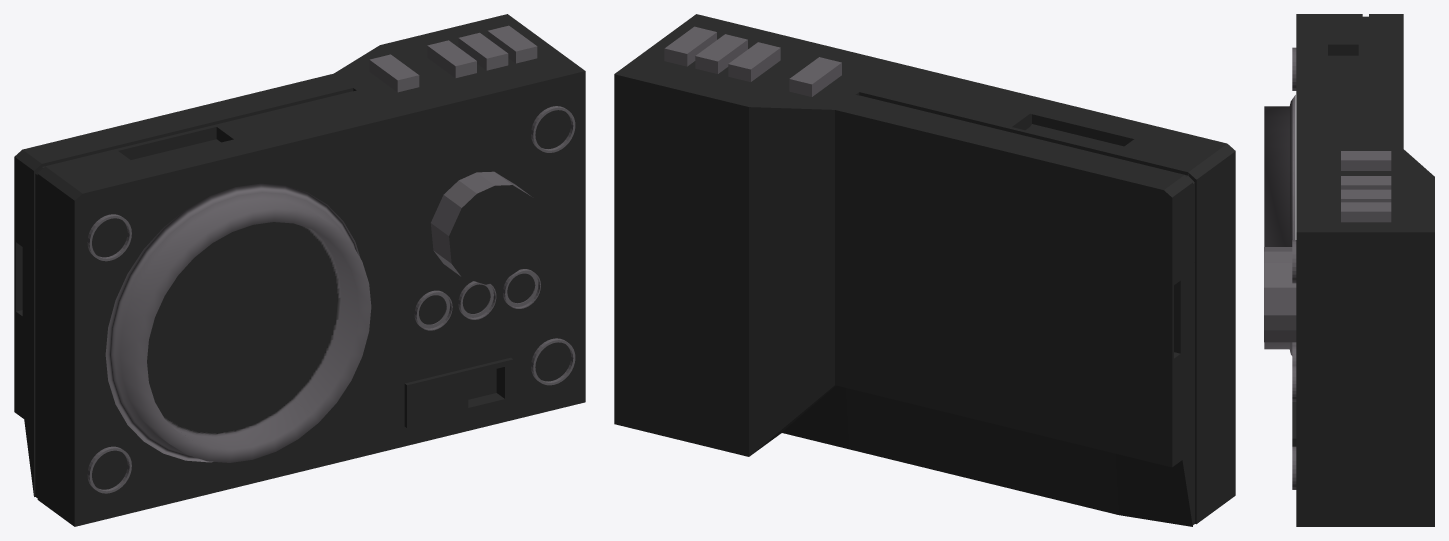
File: radio.fbx
3 renders of one model, left to right at view 1: azimuth 30°, elevation 25°; view 2: azimuth 150°, elevation 25°; view 3: azimuth 270°, elevation 25°, orthographic. The views are drawn at different scales.
Parts seen in each view (by area): view 1: Cube; view 2: Cube; view 3: Cube.
Boxes of the visible parts, x1,y1,x2,y2 form: Cube: (14,14,585,526); Cube: (614,14,1235,526); Cube: (1264,14,1434,526).
Size of the model in its own units: 323 by 207 by 105.
1 material, 1 textured.
